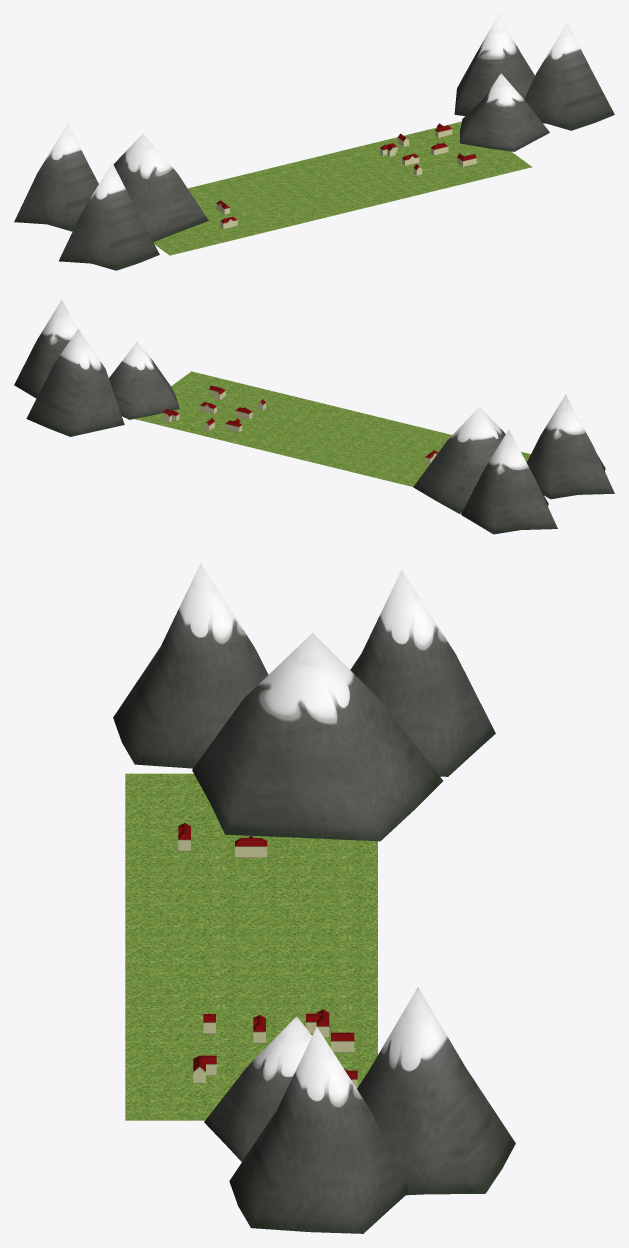
Rendered from terrain_5.glb.
3 renders of one model, top to bottom at view 1: azimuth 30°, elevation 25°; view 2: azimuth 150°, elevation 25°; view 3: azimuth 270°, elevation 25°, orthographic. The views are drawn at different scales.
Parts seen in each view (by area): view 1: Circle.0391, Circle.0393; view 2: Circle.0391, Circle.0393; view 3: Circle.0391.
Part boxes in pixels (box(x1,y1,x2,y2)): Circle.0391: box(14, 14, 614, 270); Circle.0393: box(380, 123, 452, 156); Circle.0391: box(14, 300, 614, 534); Circle.0393: box(162, 409, 242, 432); Circle.0391: box(113, 563, 515, 1233).
Size of the model in its own units: 205 by 30.38 by 63.78.
Materials: 30 (25 with a texture image).
